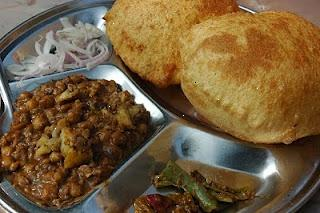chole: (4, 89, 144, 176)
puri: (115, 4, 318, 116)
salad: (15, 23, 110, 68)
